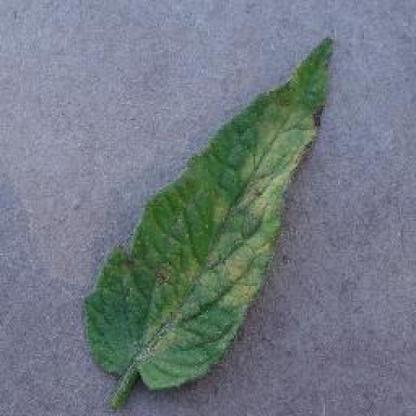Tomato_Leaf_Mold: (86, 35, 333, 389)
